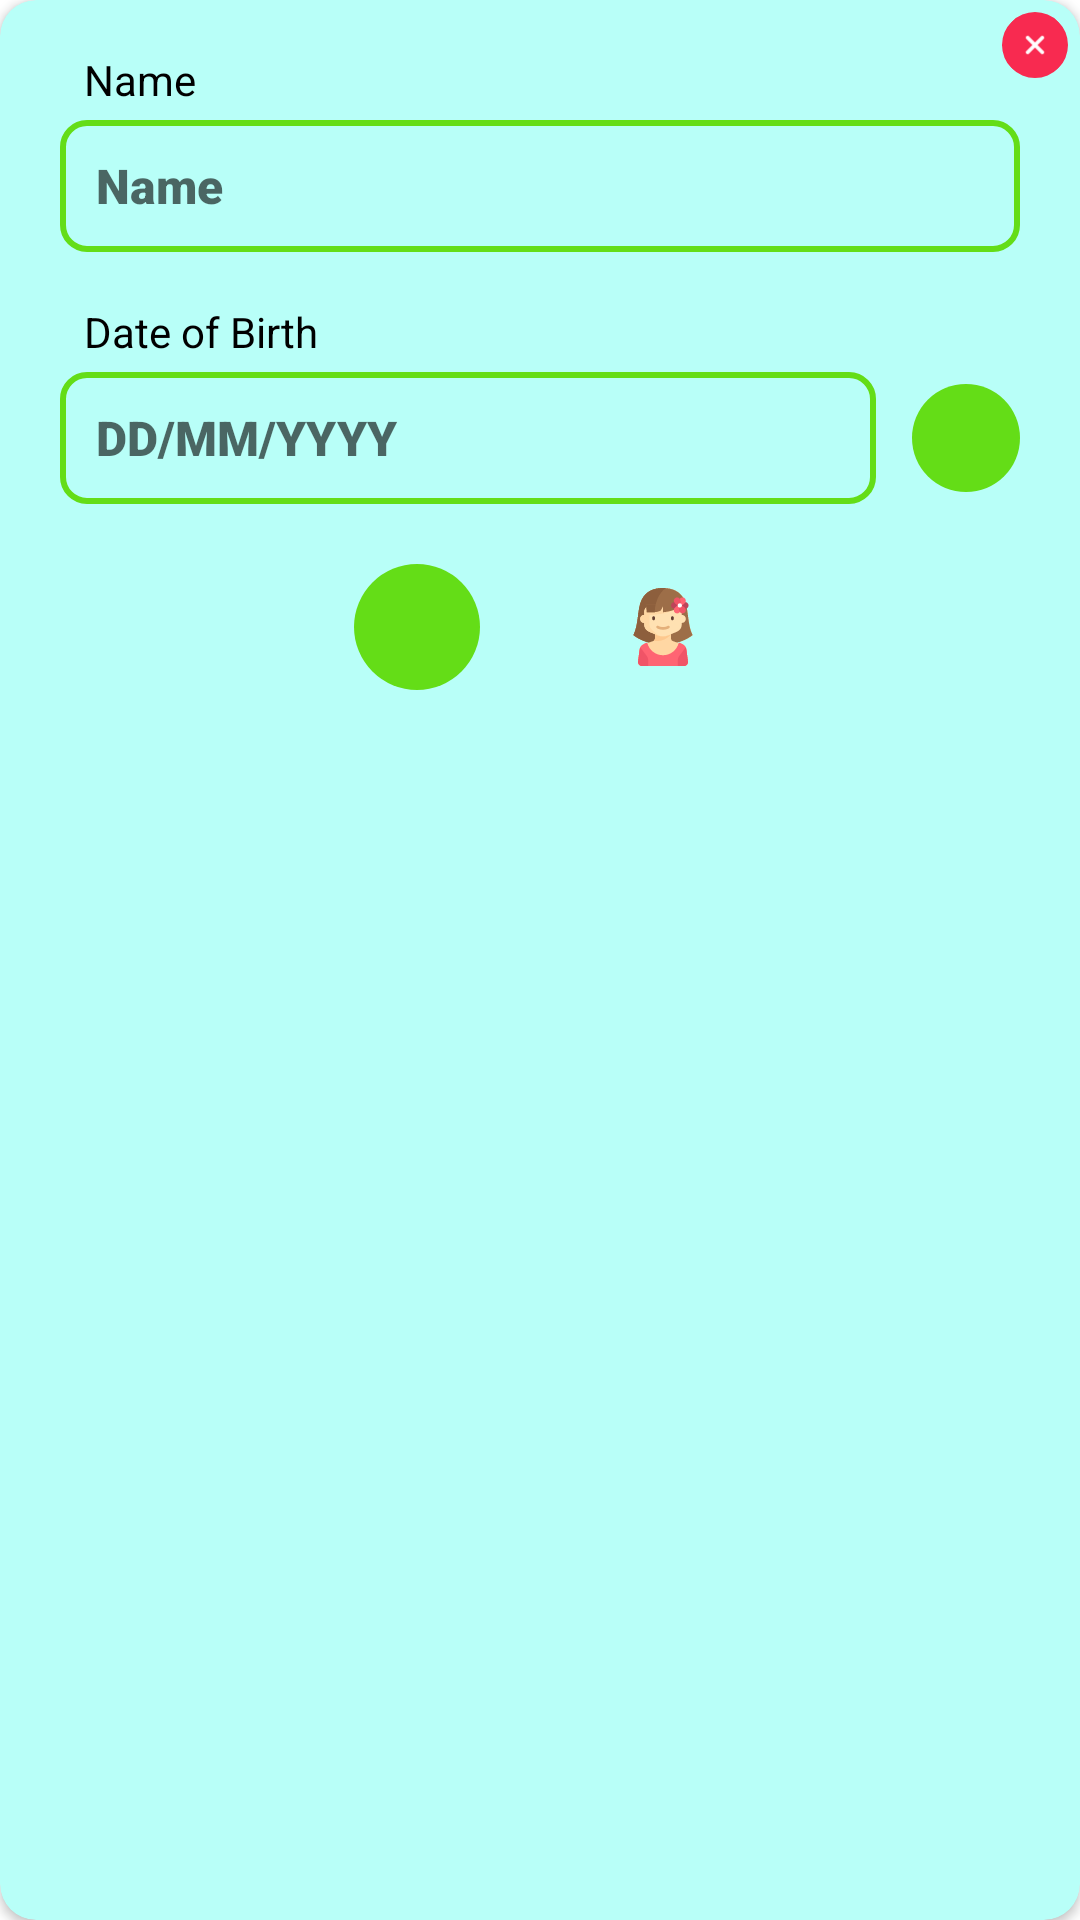

Named icons in this screenshot (1080px x 1920px) and their centers, point (x, y):
girl: point (663, 627)
